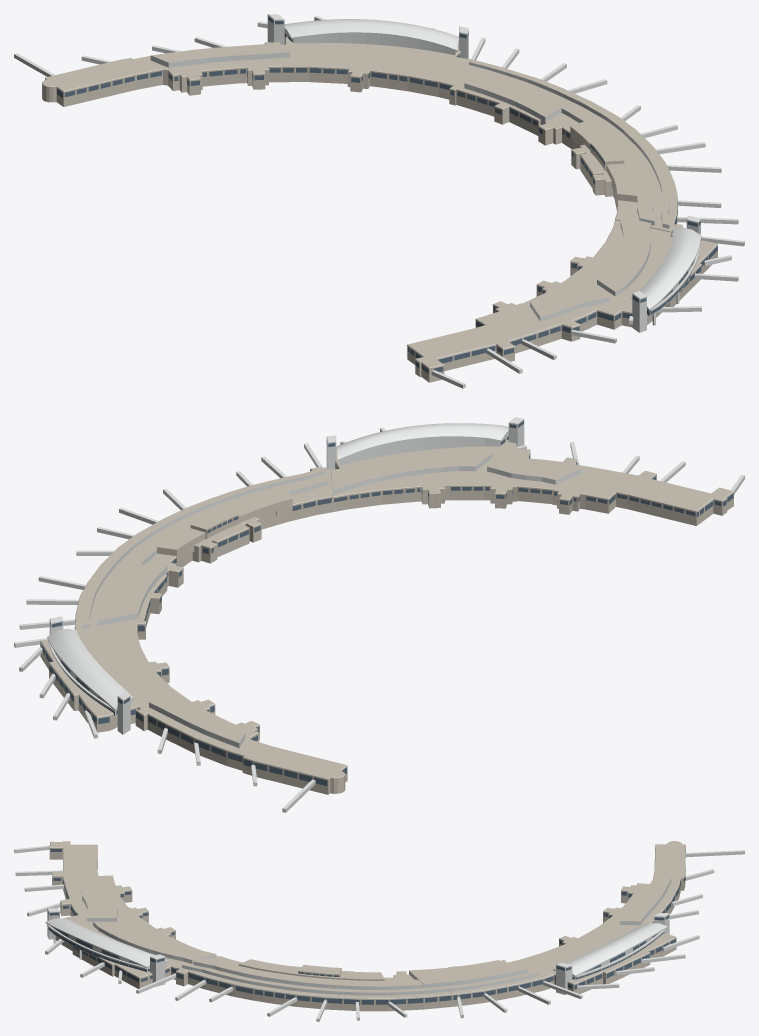
File: dal-dfw-terminal-a.glb
3 renders of one model, top to bottom at view 1: azimuth 30°, elevation 25°; view 2: azimuth 150°, elevation 25°; view 3: azimuth 270°, elevation 25°, orthographic. The views are drawn at different scales.
Parts seen in each view (by area): view 1: DFW Airport Terminal A; view 2: DFW Airport Terminal A; view 3: DFW Airport Terminal A.
Part boxes in pixels (x1,y1,x2,y2): DFW Airport Terminal A: (14, 14, 744, 388); DFW Airport Terminal A: (14, 417, 744, 812); DFW Airport Terminal A: (14, 841, 744, 1021).
Bounding box in the file's own units: 369 × 27.6 × 652.
